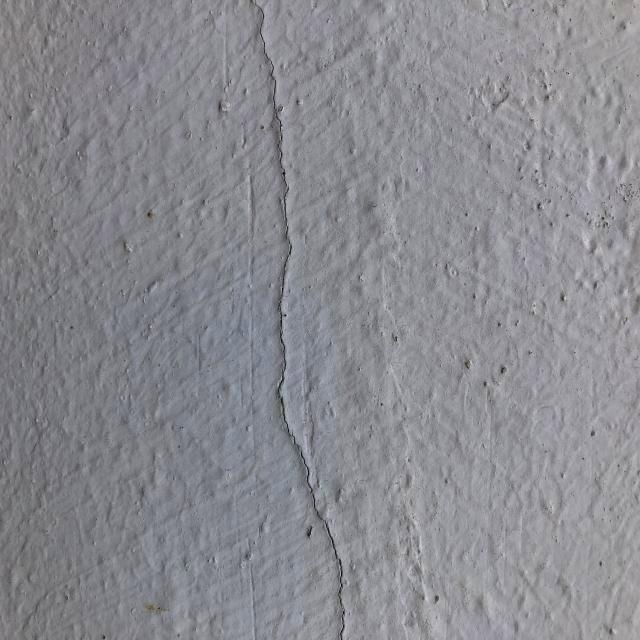SurfaceCrack: (197, 0, 386, 639)
